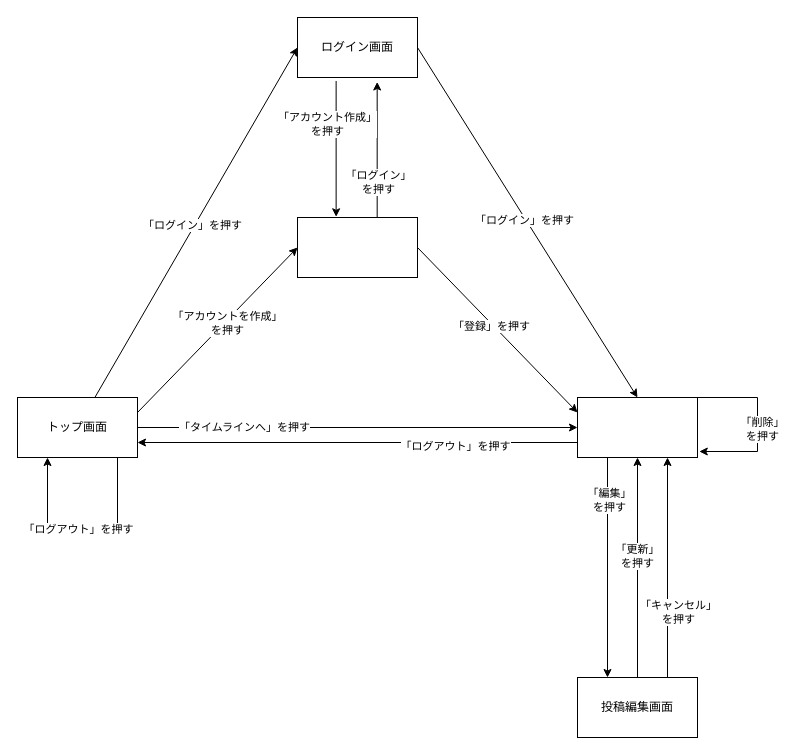
This 801x755 diagram has some shape labels left out. The centre of each missing label's shape, as x and y in pixels:
ユーザー登録画面: the point at 357,247
投稿一覧画面: the point at 637,427
